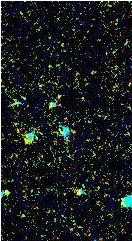star: (0, 178, 22, 208)
